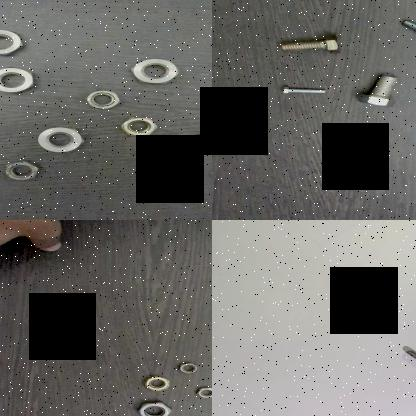Bolts: (354, 71, 401, 109), (328, 134, 380, 164), (274, 34, 344, 56), (275, 84, 329, 98), (393, 348, 416, 374), (390, 18, 416, 40)
NUTS: (32, 122, 88, 156), (122, 56, 180, 88), (112, 115, 162, 144), (0, 156, 45, 185), (0, 66, 38, 95), (0, 26, 32, 60), (84, 86, 119, 110), (138, 374, 172, 394), (191, 123, 212, 155), (134, 400, 173, 416), (174, 362, 200, 376), (193, 385, 212, 402)
